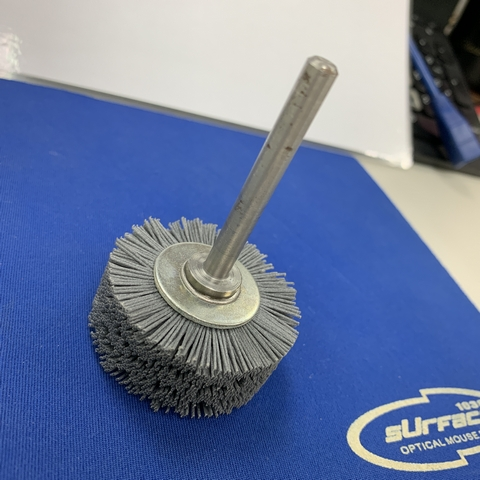Wheel Brush: (72, 26, 371, 438), (94, 48, 303, 427), (106, 43, 307, 423), (89, 169, 306, 419)
